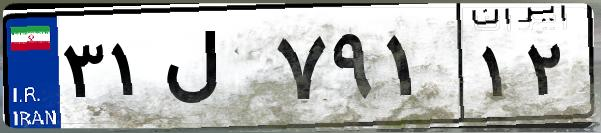1: (385, 28, 445, 110), (475, 38, 525, 113), (110, 28, 158, 98)
2: (525, 38, 570, 115)
3: (57, 26, 110, 100)
7: (270, 28, 330, 110)
9: (330, 28, 385, 110)
ل: (158, 20, 270, 120)
